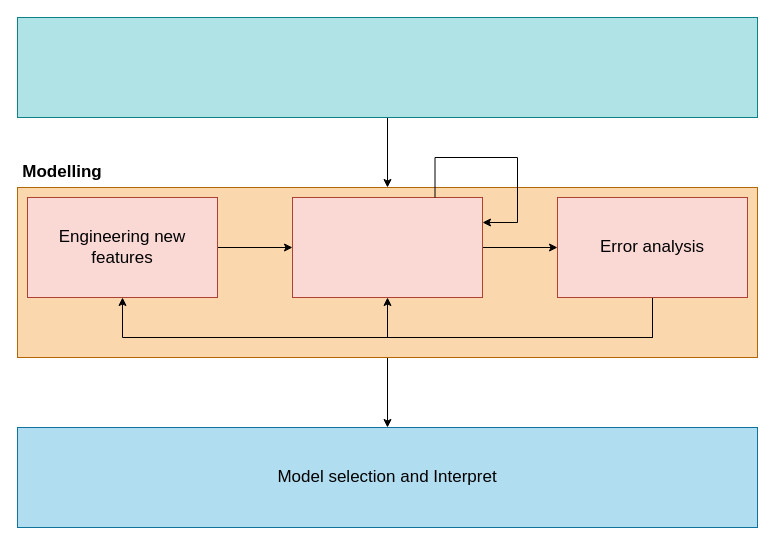
Some shapes in this 775 by 545 pixel diagram are drawn without their labels. The centre of each missing label's shape, as x and y in pixels:
Explore and clean the data: pixel 387 67
Model evaluation + parameters tuning: pixel 387 247
